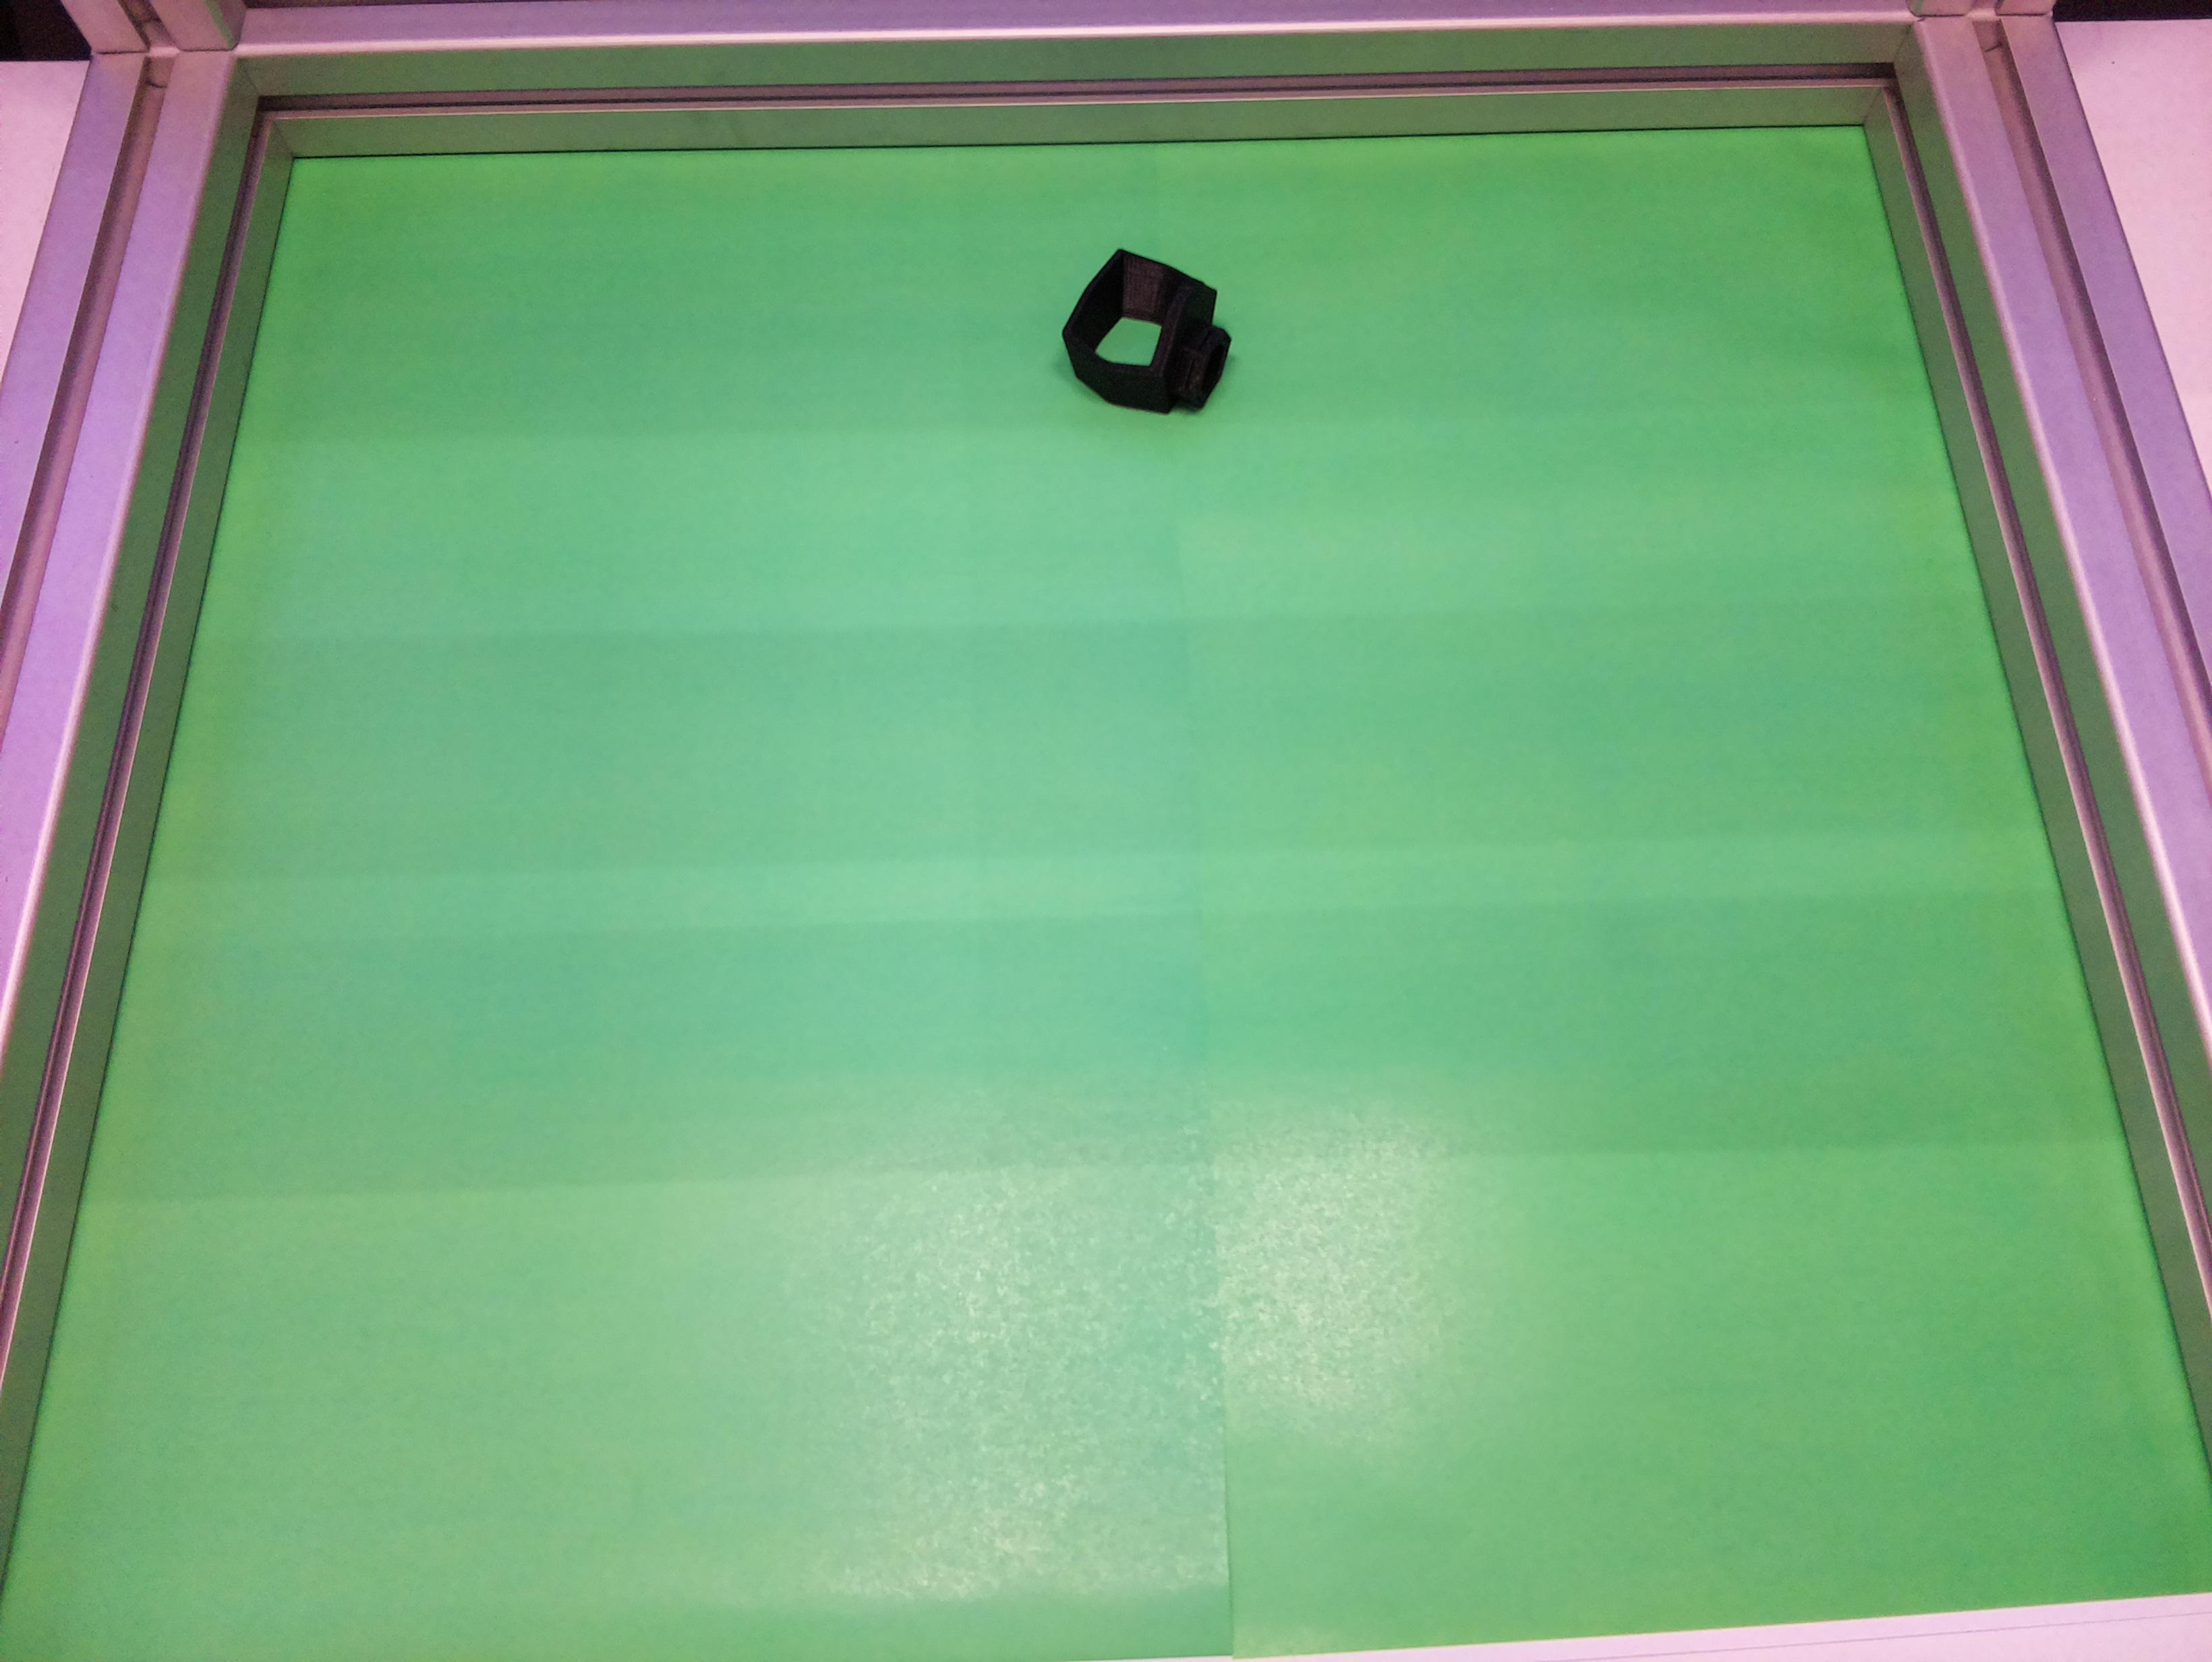scissor_holder: (1042, 234, 1257, 443)
